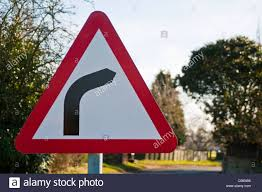Bend_to_right: (13, 9, 178, 157)
